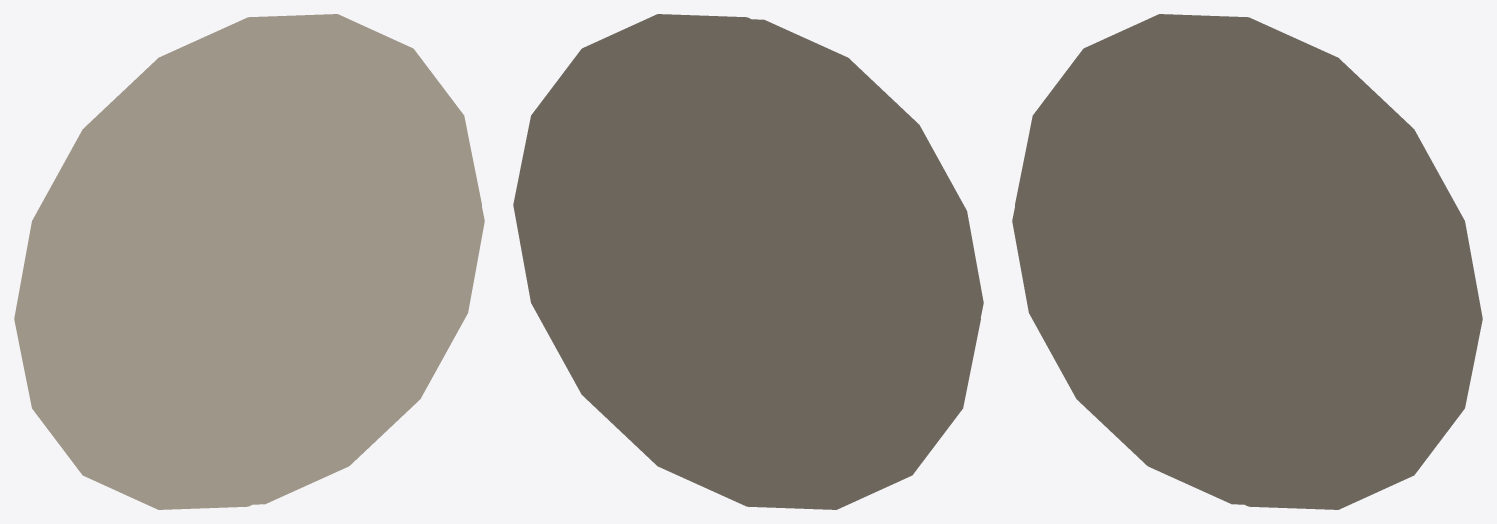
Rendered from Fp214Cylinder_112Fp214_Cylinder_112_0_GeomSubset_0.obj.
3 views of the same model, side by side, from view 1: azimuth 30°, elevation 25°; view 2: azimuth 150°, elevation 25°; view 3: azimuth 330°, elevation 25° (orthographic).
Parts seen in each view (by area): view 1: Fp214Cylinder_112Fp214_Cylinder_112_0_GeomSubset_0; view 2: Fp214Cylinder_112Fp214_Cylinder_112_0_GeomSubset_0; view 3: Fp214Cylinder_112Fp214_Cylinder_112_0_GeomSubset_0.
Boxes of the visible parts, box(x1,y1,x2,y2) form: Fp214Cylinder_112Fp214_Cylinder_112_0_GeomSubset_0: box(14, 14, 484, 509); Fp214Cylinder_112Fp214_Cylinder_112_0_GeomSubset_0: box(513, 14, 983, 509); Fp214Cylinder_112Fp214_Cylinder_112_0_GeomSubset_0: box(1012, 14, 1482, 509).
Bounding box in the file's own units: 0.4356 × 0.4356 × 0.0279.
